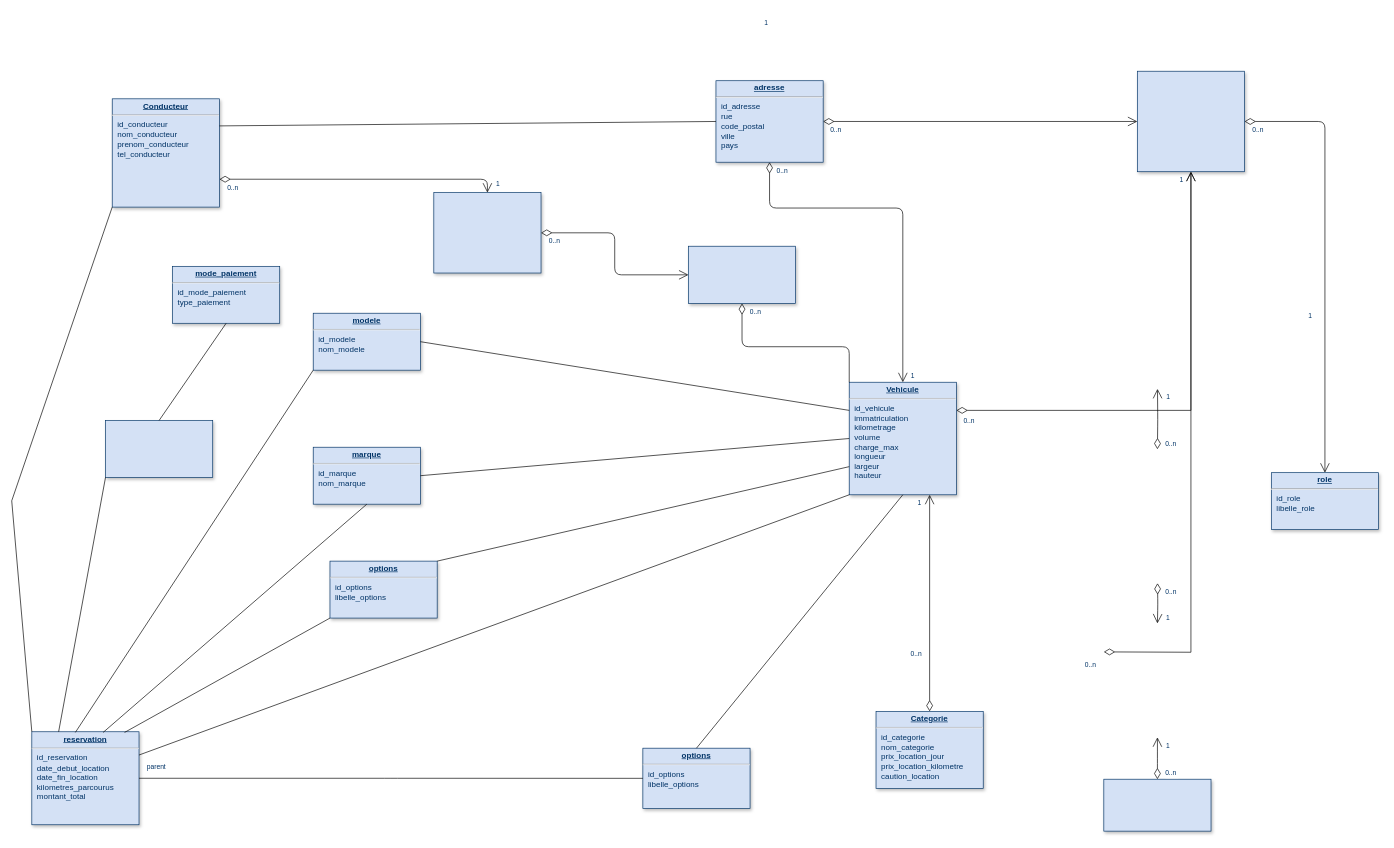
Image size: 1394x848. Some labels were removed from this diagram. Each missing label, with the centre of its shape:
etat id_etat libelle_etat: (x=1157, y=806)
paiement id_paiement montant_paiement: (x=159, y=449)
permis id_permis type_permis: (x=487, y=233)
type_vehicule id_type_vehicule nom_type_vehicule: (x=742, y=275)
User id_user nom_user prenom_user tel_user login password: (x=1191, y=122)
